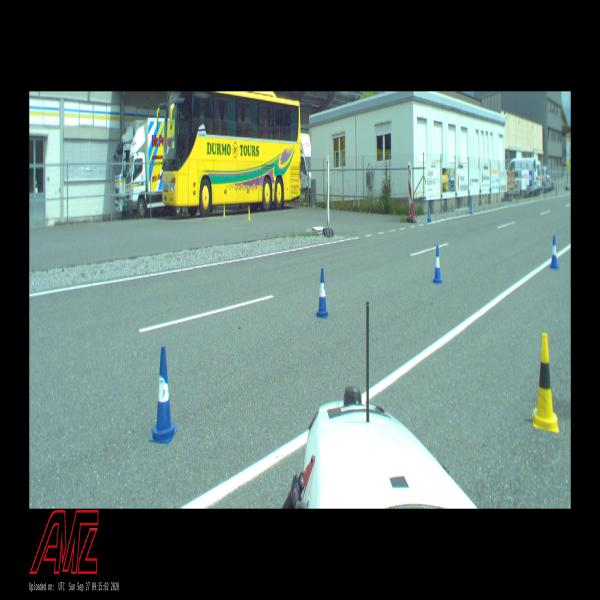blue_cone: (150, 346, 178, 443), (316, 268, 329, 318), (433, 246, 443, 284), (550, 236, 558, 268), (427, 203, 431, 222), (470, 199, 472, 214)
yellow_cone: (532, 334, 559, 432), (223, 204, 226, 217), (248, 205, 250, 220)
